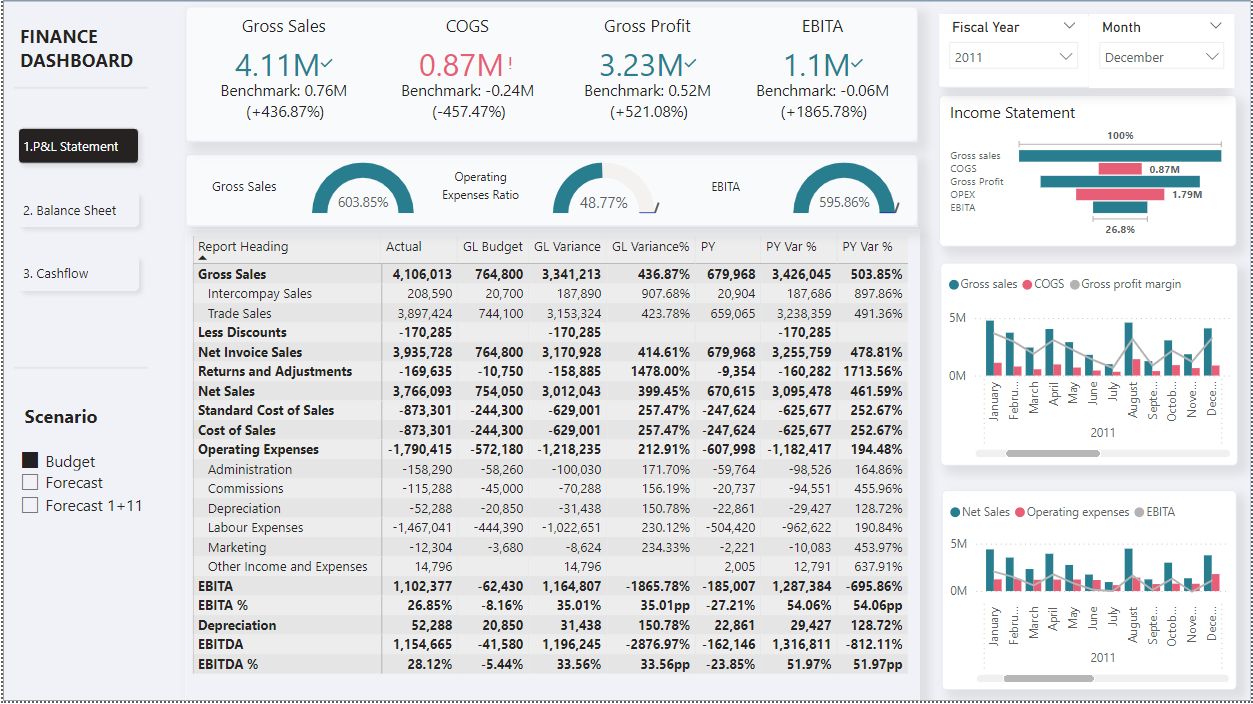

The dashboard page shown, as its layout file describes it:
{"tool":"powerbi","page":{"name":"1.P&L Statement","canvas":[1280,720],"ordinal":0},"visuals":[{"type":"shape","box":[0,1.3,1280.8,719.2],"z":0},{"type":"shape","title":"KPIs Board","box":[187.2,7.7,751.2,139],"z":0,"group":"g2"},{"type":"shape","title":"KPIs Board","box":[960.5,16,289,74.4],"z":0,"group":"g4"},{"type":"shape","box":[187.2,159,751.3,74.4],"z":0,"group":"g1"},{"type":"lineClusteredColumnComboChart","fields":{"Y":["General Ledger.Gross sales","General Ledger.Cost Of Sales"],"Y2":["General Ledger.Gross profit margin"],"Category":["Date.Fiscal Year Hierarchy.Fiscal Year","Date.Fiscal Year Hierarchy.Month"]},"box":[961.1,271,305.1,207.7],"z":0,"group":"g3"},{"type":"slicer","fields":{"Values":["Date.Fiscal Year"]},"box":[960.3,15.4,152.6,74.4],"z":1000,"group":"g4"},{"type":"kpi","title":"Gross Sales ","fields":{"Indicator":["General Ledger.Gross sales"],"Goal":["General Ledger.Gross sales Budget"],"TrendLine":["Date.Fiscal Year"]},"box":[201.8,15.6,173.2,123.2],"z":1000,"group":"g2"},{"type":"gauge","fields":{"Y":["General Ledger.EBITA"],"TargetValue":["General Ledger.EBITA PY"]},"box":[801.3,162.8,123.2,62.2],"z":1000,"group":"g1"},{"type":"pivotTable","title":"Profit and Lost Statement","fields":{"Values":["General Ledger.Actual","General Ledger.Forecast 1+11","General Ledger.Forecast 1+11 Var","General Ledger.Forecast 1+11 Var %","General Ledger.Actual PY","General Ledger.Actual PY Var","General Ledger.Actual PY Var %"],"Rows":["Statement.Report Heading","Statement.Report Section"]},"box":[187.2,235.9,752.6,484.6],"z":1000},{"type":"lineClusteredColumnComboChart","fields":{"Y":["General Ledger.Net Sales","General Ledger.Operating expenses"],"Category":["Date.Fiscal Year Hierarchy.Fiscal Year","Date.Fiscal Year Hierarchy.Month"],"Y2":["General Ledger.EBITA"]},"box":[962.4,504.3,302.6,205.1],"z":1000,"group":"g3"},{"type":"slicer","fields":{"Values":["Date.Month"]},"box":[1113.8,15,148.7,75.6],"z":2000,"group":"g4"},{"type":"kpi","title":"COGS","fields":{"TrendLine":["Date.Fiscal Year"],"Indicator":["General Ledger.COGS"],"Goal":["General Ledger.COGS Budget"]},"box":[389.6,15.6,173.2,123.2],"z":2000,"group":"g2"},{"type":"textbox","box":[691.5,178.6,100,30.5],"z":2000,"group":"g1"},{"type":"kpi","title":"Gross Profit","fields":{"TrendLine":["Date.Fiscal Year"],"Indicator":["General Ledger.Gross Profit"],"Goal":["General Ledger.Gross Profit Budget"]},"box":[573.8,15.6,173.2,123.2],"z":3000,"group":"g2"},{"type":"gauge","fields":{"Y":["General Ledger.Gross sales"],"TargetValue":["General Ledger.Gross sales PY"]},"box":[307.6,162.8,123.2,62.2],"z":3000,"group":"g1"},{"type":"kpi","title":"EBITA","fields":{"TrendLine":["Date.Fiscal Year"],"Indicator":["General Ledger.EBITA"],"Goal":["General Ledger.EBITA Budget"]},"box":[754.3,15.6,173.2,123.2],"z":4000,"group":"g2"},{"type":"funnel","title":"Income Statement","fields":{"Y":["General Ledger.Gross sales","General Ledger.Cost Of Sales","General Ledger.Gross Profit","General Ledger.Operating expenses","General Ledger.EBITA"]},"box":[960.3,98.7,305.1,155.1],"z":4000},{"type":"textbox","box":[197.6,178.6,100,30.5],"z":4000,"group":"g1"},{"type":"group","id":"g1","title":"Gauge Board","box":[187.2,159,751.3,74.4],"z":5000},{"type":"gauge","fields":{"Y":["General Ledger.Operating expend ratio"],"TargetValue":["General Ledger.Operating expend ratio PY"]},"box":[550.8,162.8,130.5,62.2],"z":5000,"group":"g1"},{"type":"group","id":"g2","title":"KPI Board","box":[187.2,7.7,750,138.5],"z":6000},{"type":"textbox","box":[440.3,168.3,100,51.2],"z":6000,"group":"g1"},{"type":"group","id":"g3","title":"Bar Charts","box":[961.1,271,305.1,438.5],"z":7000},{"type":"group","id":"g4","title":"Time slice","box":[960.3,15,302.2,75.6],"z":8000},{"type":"slicer","fields":{"Values":["P&L Columns.P&L Scenario"]},"box":[6.4,456.4,170.5,94.9],"z":9000},{"type":"textbox","box":[11.5,410.3,96.2,46.2],"z":10000},{"type":"textbox","box":[11.5,19.2,137.2,82.1],"z":11000},{"type":"shape","box":[11.5,74.4,137.2,33.3],"z":12000},{"type":"pageNavigator","box":[6.4,123.1,142.3,187.2],"z":13000},{"type":"shape","box":[11.5,361.5,137.2,33.3],"z":14000}]}

Visuals, with their boxes in screenshot pixels (x1, y1, x2, y2), scaled from the page's 1280x720 canvas onto the 1253x704 screenshot:
shape: box(0, 1, 1252, 703)
"KPIs Board" shape: box(183, 8, 919, 143)
"KPIs Board" shape: box(940, 16, 1223, 88)
shape: box(183, 155, 919, 228)
lineClusteredColumnComboChart - General Ledger.Gross sales x General Ledger.Cost Of Sales: box(941, 265, 1239, 468)
slicer - Date.Fiscal Year: box(940, 15, 1089, 88)
"Gross Sales " kpi: box(198, 15, 367, 136)
gauge - General Ledger.EBITA x General Ledger.EBITA PY: box(784, 159, 905, 220)
"Profit and Lost Statement" pivotTable: box(183, 231, 920, 703)
lineClusteredColumnComboChart - General Ledger.Net Sales x General Ledger.Operating expenses: box(942, 493, 1238, 694)
slicer - Date.Month: box(1090, 15, 1236, 89)
"COGS" kpi: box(381, 15, 551, 136)
textbox: box(677, 175, 775, 204)
"Gross Profit" kpi: box(562, 15, 731, 136)
gauge - General Ledger.Gross sales x General Ledger.Gross sales PY: box(301, 159, 422, 220)
"EBITA" kpi: box(738, 15, 908, 136)
"Income Statement" funnel: box(940, 97, 1239, 248)
textbox: box(193, 175, 291, 204)
"Gauge Board" group: box(183, 155, 919, 228)
gauge - General Ledger.Operating expend ratio x General Ledger.Operating expend ratio PY: box(539, 159, 667, 220)
"KPI Board" group: box(183, 8, 917, 143)
textbox: box(431, 165, 529, 215)
"Bar Charts" group: box(941, 265, 1239, 694)
"Time slice" group: box(940, 15, 1236, 89)
slicer - P&L Columns.P&L Scenario: box(6, 446, 173, 539)
textbox: box(11, 401, 105, 446)
textbox: box(11, 19, 146, 99)
shape: box(11, 73, 146, 105)
pageNavigator: box(6, 120, 146, 303)
shape: box(11, 353, 146, 386)
